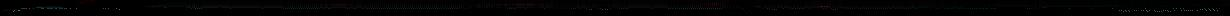Blue cone: (38, 6, 41, 7)
Yellow cone: (704, 3, 724, 7), (206, 5, 212, 7)
